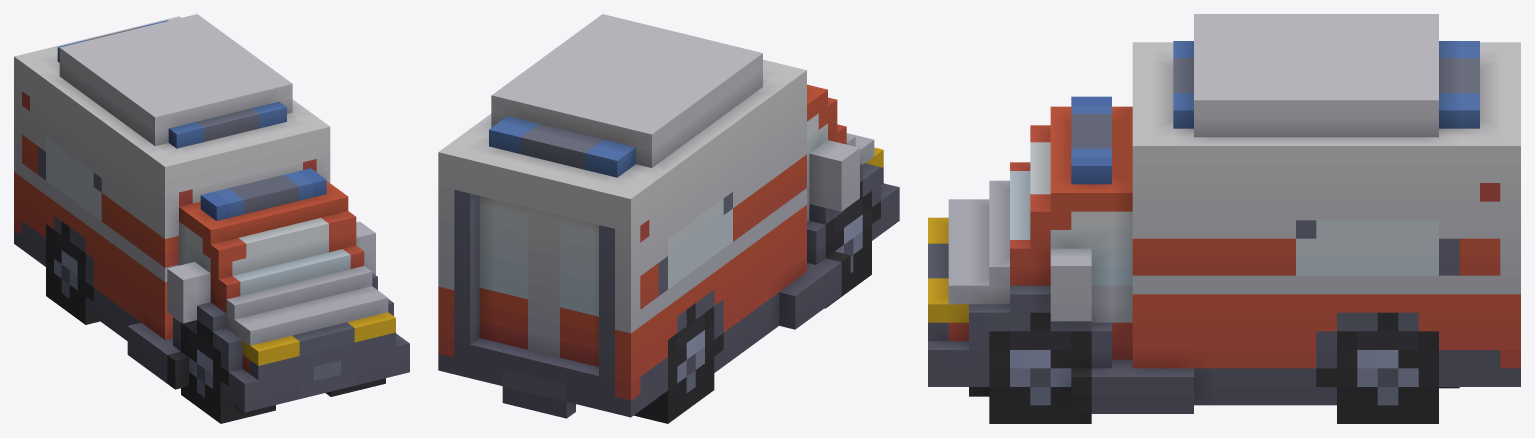
Rendered from ambulance.glb.
3 renders of one model, left to right at view 1: azimuth 30°, elevation 25°; view 2: azimuth 150°, elevation 25°; view 3: azimuth 270°, elevation 25°, orthographic. The views are drawn at different scales.
Parts seen in each view (by area): view 1: voxels; view 2: voxels; view 3: voxels.
Part boxes in pixels (left/top/right/bottom): voxels: left=14, top=14, right=409, bottom=423; voxels: left=438, top=14, right=899, bottom=423; voxels: left=928, top=14, right=1520, bottom=423.
Size of the model in its own units: 1.57 by 1.91 by 3.26.
